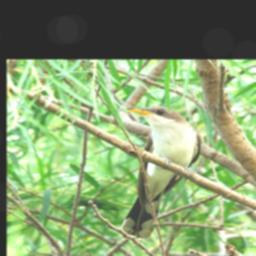Cuckoo: (120, 106, 202, 239)
